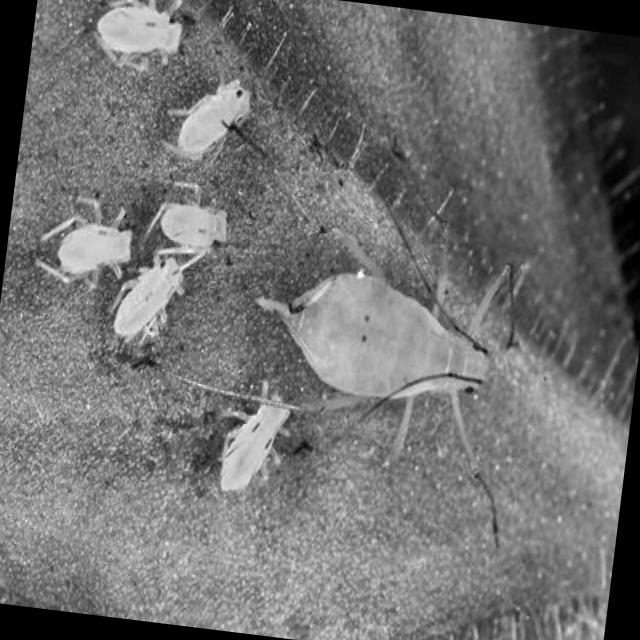Aphids: (233, 182, 523, 524), (24, 171, 148, 302), (159, 70, 282, 196), (207, 370, 300, 498), (112, 232, 202, 354), (79, 0, 209, 80), (148, 180, 258, 270)
